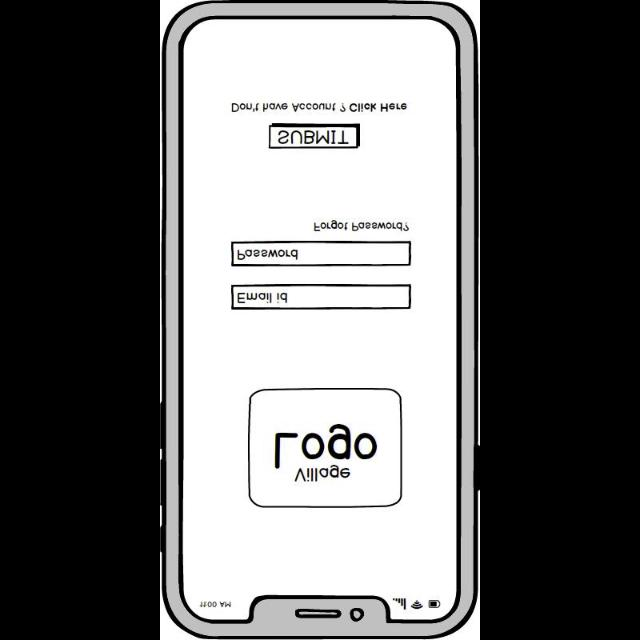image: (248, 388, 402, 508)
input: (232, 240, 412, 268), (230, 283, 412, 309)
textbutton: (268, 123, 360, 149), (230, 101, 408, 112), (313, 220, 409, 232)
